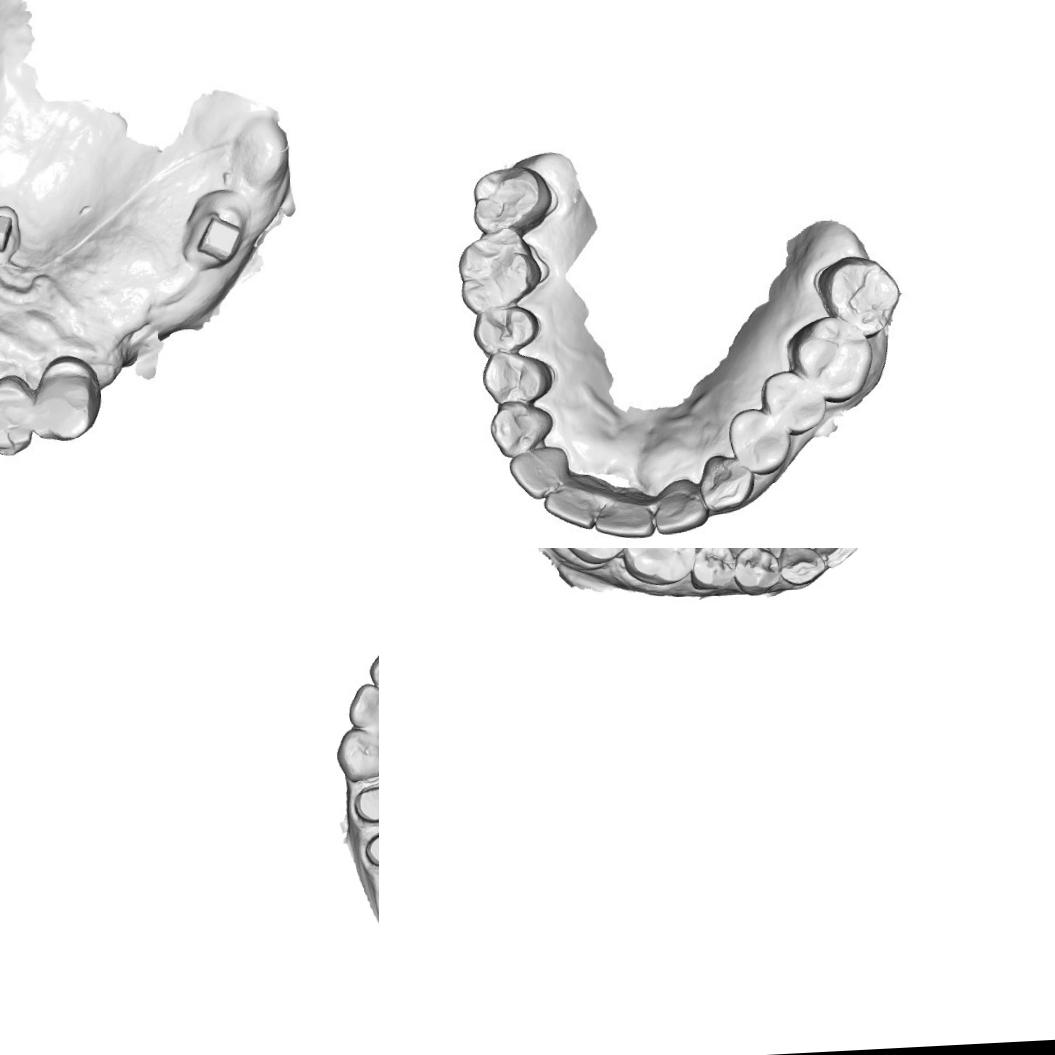canine: (23, 346, 108, 446), (486, 393, 559, 458), (696, 446, 752, 514), (333, 726, 379, 782), (774, 548, 827, 588)
crown: (348, 777, 379, 827), (359, 824, 379, 872)
incisor: (0, 370, 36, 458), (594, 490, 654, 540), (510, 447, 568, 495), (544, 480, 600, 529), (653, 482, 705, 530), (345, 680, 379, 737), (808, 548, 859, 569), (366, 635, 379, 705)
molar: (452, 228, 548, 314), (790, 317, 871, 397), (818, 255, 898, 329), (468, 168, 539, 226), (618, 548, 699, 587), (555, 548, 634, 568)
premolar: (482, 350, 548, 405), (730, 409, 788, 471), (766, 373, 826, 429), (472, 306, 534, 354), (730, 548, 780, 597), (687, 548, 737, 591)
